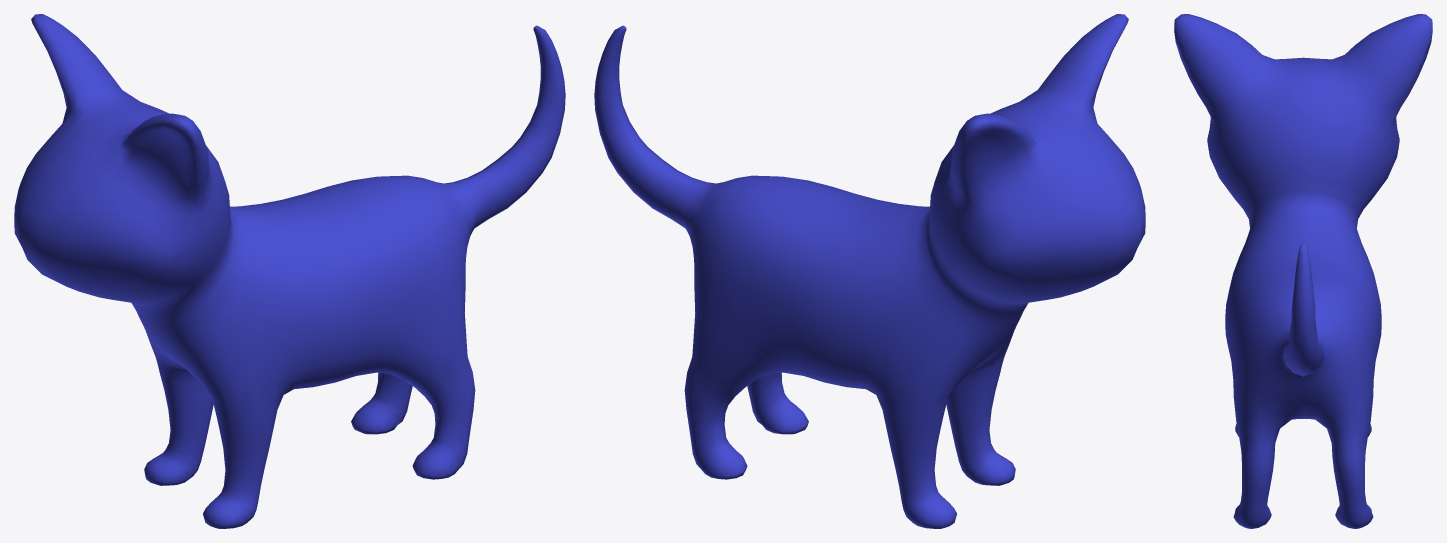
Rendered from babi.fbx.
The picture shows the model from 3 angles, left to right: view 1: azimuth 30°, elevation 25°; view 2: azimuth 150°, elevation 25°; view 3: azimuth 270°, elevation 25°; orthographic projection. The views are drawn at different scales.
Visible parts, largest first — view 1: root; view 2: root; view 3: root.
Boxes of the visible parts, x1,y1,x2,y2 form: root: (14, 14, 565, 528); root: (594, 14, 1145, 528); root: (1174, 14, 1432, 528).
Bounding box in the file's own units: 303 × 243 × 148.
1 material, 1 textured.
